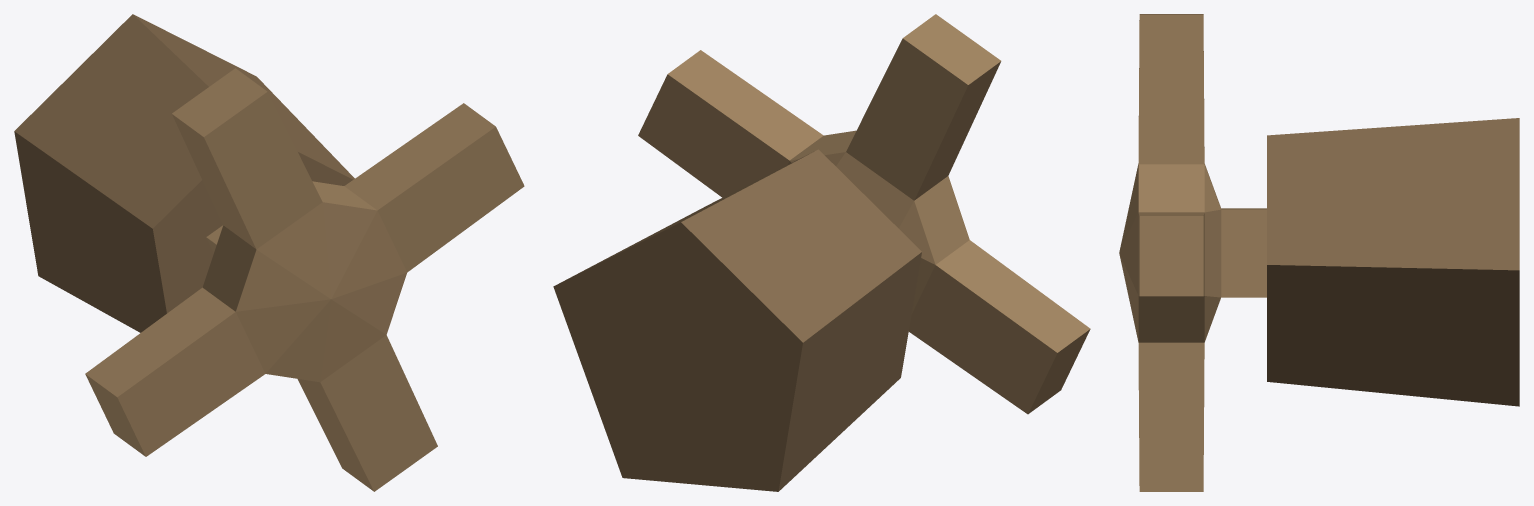
File: SM_Prop_Pipe_Valve_02.fbx
The picture shows the model from 3 angles, left to right: view 1: azimuth 30°, elevation 25°; view 2: azimuth 150°, elevation 25°; view 3: azimuth 270°, elevation 25°; orthographic projection. The views are drawn at different scales.
Visible parts, largest first — view 1: SM_Prop_Pipe_Valve_02_Wheel, SM_Prop_Pipe_Valve_02; view 2: SM_Prop_Pipe_Valve_02, SM_Prop_Pipe_Valve_02_Wheel; view 3: SM_Prop_Pipe_Valve_02, SM_Prop_Pipe_Valve_02_Wheel.
Part boxes in pixels (x1,y1,x2,y2): SM_Prop_Pipe_Valve_02_Wheel: (85,68,524,491); SM_Prop_Pipe_Valve_02: (14,14,354,332); SM_Prop_Pipe_Valve_02: (553,149,921,491); SM_Prop_Pipe_Valve_02_Wheel: (638,14,1090,414); SM_Prop_Pipe_Valve_02: (1267,118,1519,406); SM_Prop_Pipe_Valve_02_Wheel: (1119,14,1266,491).
Bounding box in the file's own units: 17.79 × 17.79 × 15.23.
